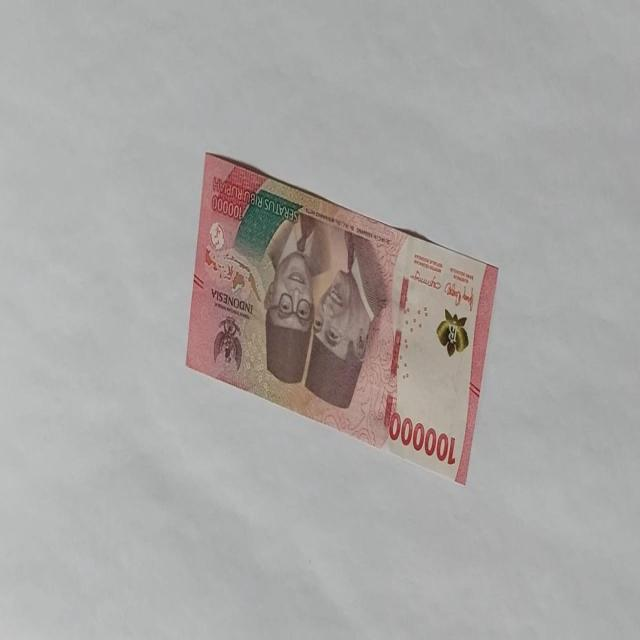Kertas: (185, 150, 499, 487), (388, 409, 457, 466)
